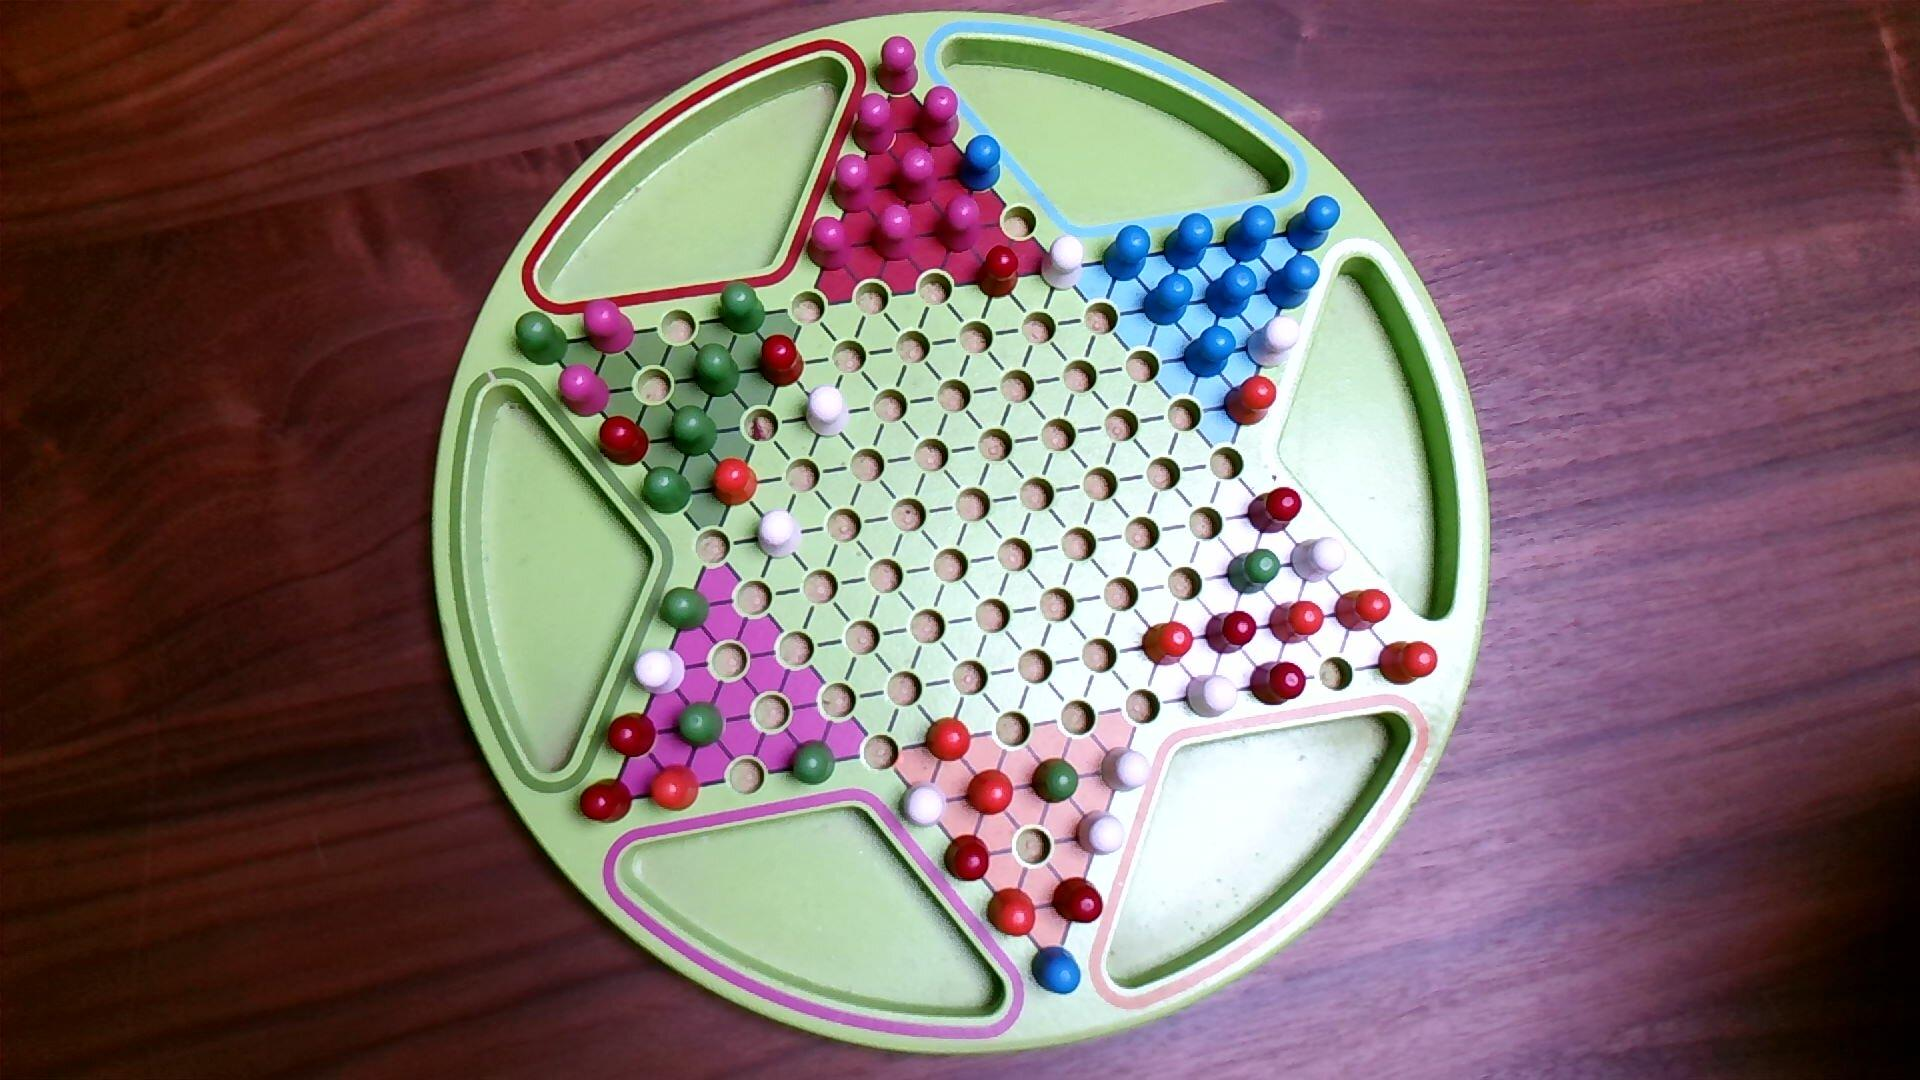B: (1284, 194, 1342, 255), (1265, 252, 1321, 313), (1222, 203, 1276, 265), (1182, 323, 1238, 380), (1141, 270, 1196, 328), (1204, 262, 1259, 320), (1162, 212, 1215, 273), (1101, 223, 1153, 284), (955, 133, 1004, 195), (1030, 943, 1083, 997)
G: (516, 311, 571, 369), (666, 404, 720, 460), (691, 342, 742, 400), (717, 278, 767, 338), (1224, 546, 1283, 596), (640, 463, 694, 517), (673, 700, 727, 752), (1029, 756, 1081, 807), (658, 585, 712, 636), (786, 740, 837, 789)
O: (1221, 375, 1279, 429), (1377, 640, 1440, 688), (986, 886, 1039, 942), (646, 762, 702, 814), (1269, 599, 1327, 647), (1141, 620, 1197, 669), (1333, 588, 1393, 634), (709, 458, 760, 508), (967, 767, 1015, 818), (924, 716, 975, 764)
R: (1247, 659, 1309, 709), (1246, 485, 1305, 535), (597, 413, 651, 467), (1050, 876, 1105, 927), (578, 777, 636, 825), (603, 711, 659, 760), (758, 334, 806, 390), (975, 243, 1021, 301), (942, 832, 992, 884), (1204, 611, 1261, 655)
R2: (582, 297, 638, 357), (849, 90, 898, 156), (556, 363, 612, 419), (913, 84, 961, 148), (829, 153, 877, 218), (891, 145, 942, 204), (873, 36, 920, 98), (938, 193, 984, 256), (804, 215, 853, 273), (872, 202, 916, 262)
W: (1246, 314, 1303, 371), (632, 646, 688, 699), (1291, 535, 1349, 585), (1075, 807, 1127, 860), (803, 382, 851, 440), (897, 781, 949, 832), (1040, 233, 1085, 293), (757, 506, 804, 562), (1101, 745, 1153, 795), (1185, 673, 1240, 720)
